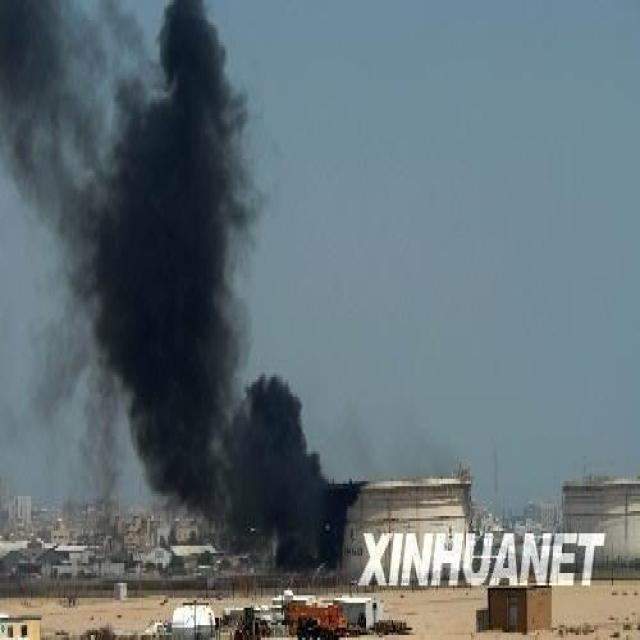Smoke: (1, 2, 332, 564)
